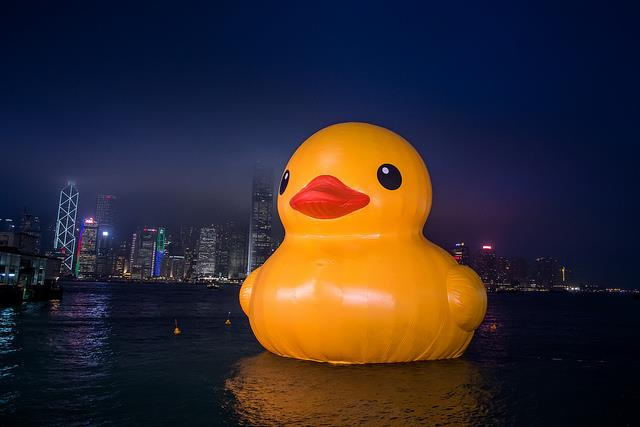rubber_duck: (234, 118, 490, 368)
